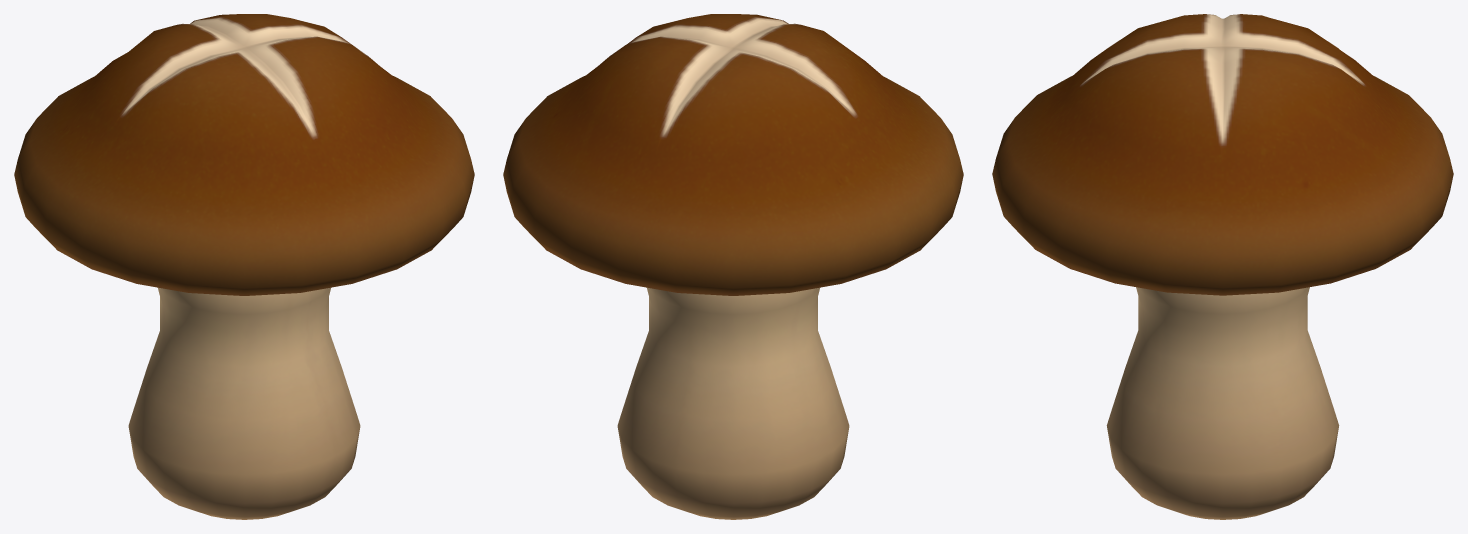
File: StackUp_Mushroom.fbx
3 views of the same model, side by side, from view 1: azimuth 30°, elevation 25°; view 2: azimuth 150°, elevation 25°; view 3: azimuth 270°, elevation 25° (orthographic).
Visible parts, largest first — view 1: StackUp_Mushroom; view 2: StackUp_Mushroom; view 3: StackUp_Mushroom.
Boxes of the visible parts, <box> form: StackUp_Mushroom: <box>14,14,474,519</box>; StackUp_Mushroom: <box>503,14,963,519</box>; StackUp_Mushroom: <box>992,14,1453,519</box>.
Size of the model in its own units: 15.07 by 16.24 by 15.07.
